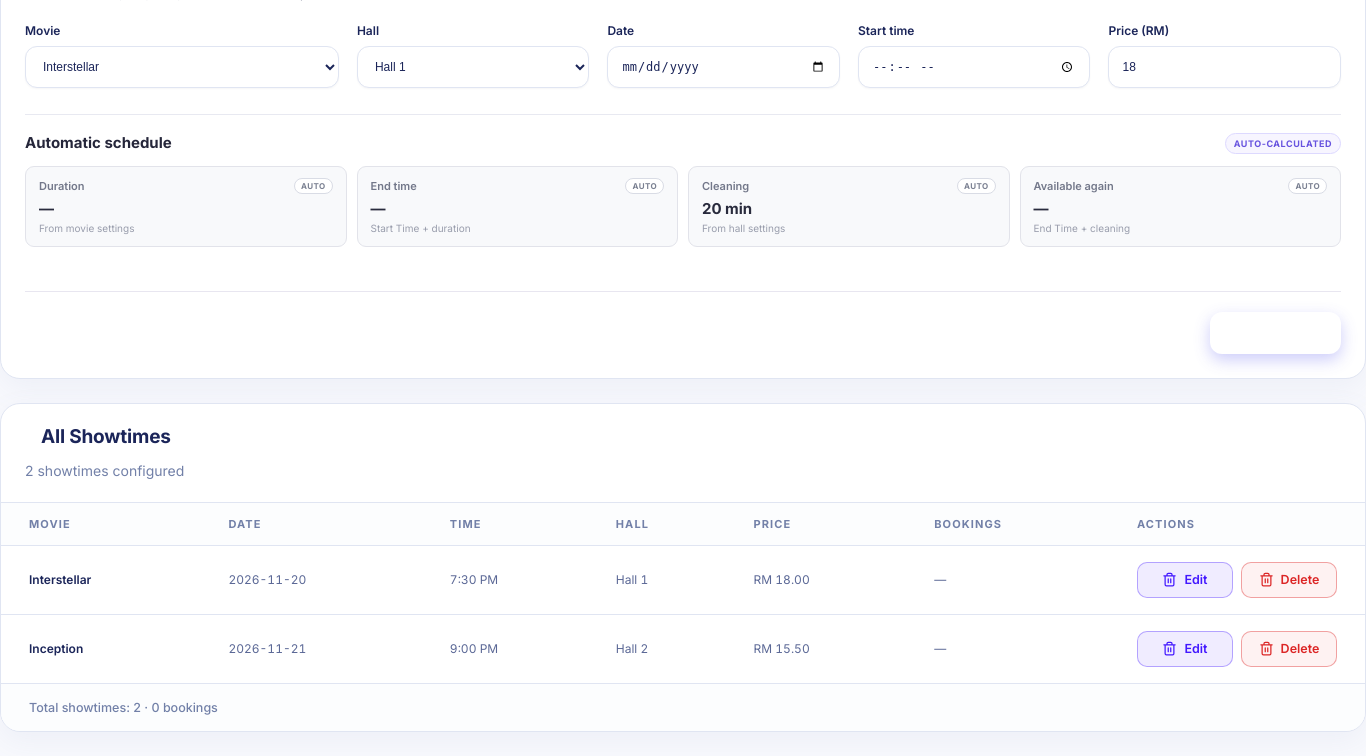
Test: Showtimes Admin Page › should load an existing showtime into the form for editing
(page scrolled)
Expected: the heading "All Showtimes" is shown, [41,425,171,448]
Click the button "Edit" in the row of "Interstellar": (1185, 580) [1137,562,1233,598]
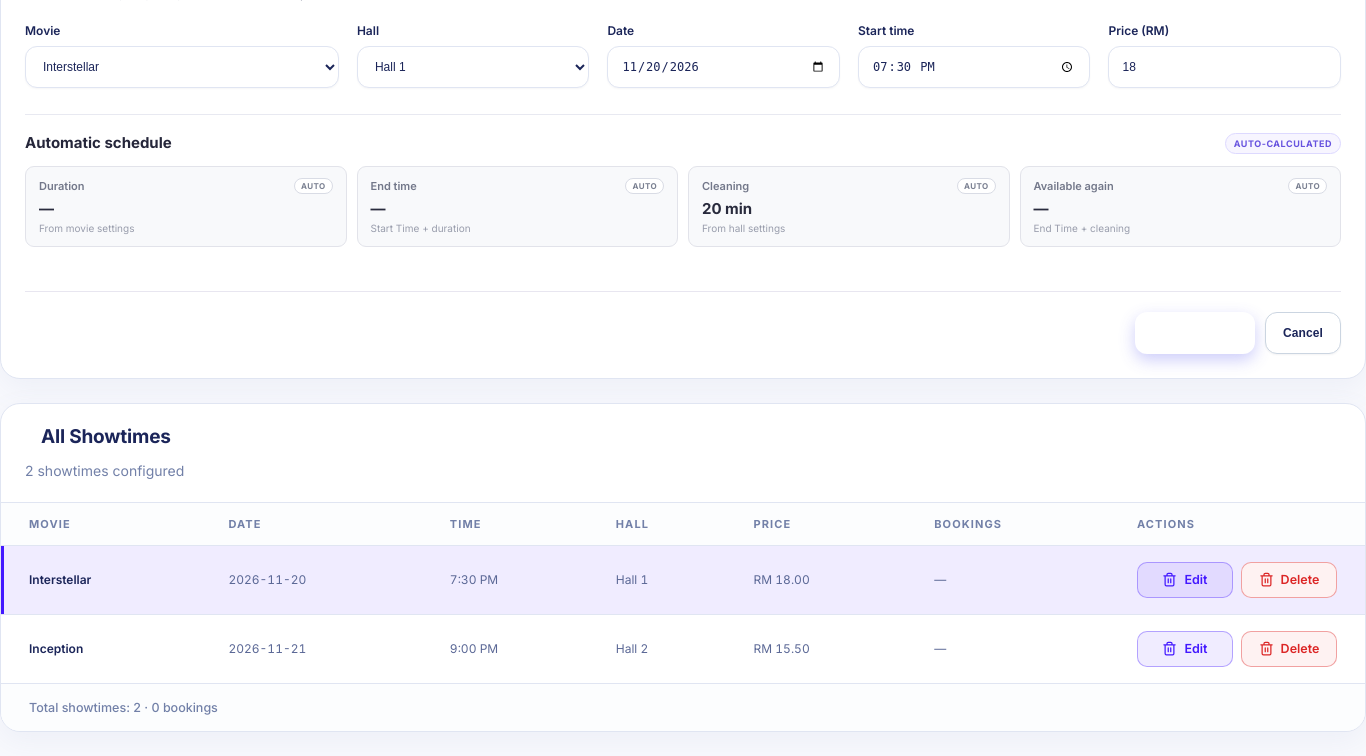
Expected: the date field labelled "Date" holds "2026-11-20", [607,46,840,88]
Expected: the time field labelled "Start time" holds "19:30", [858,46,1090,88]
Expected: the button "Save Changes" is shown, [1135,312,1255,354]
